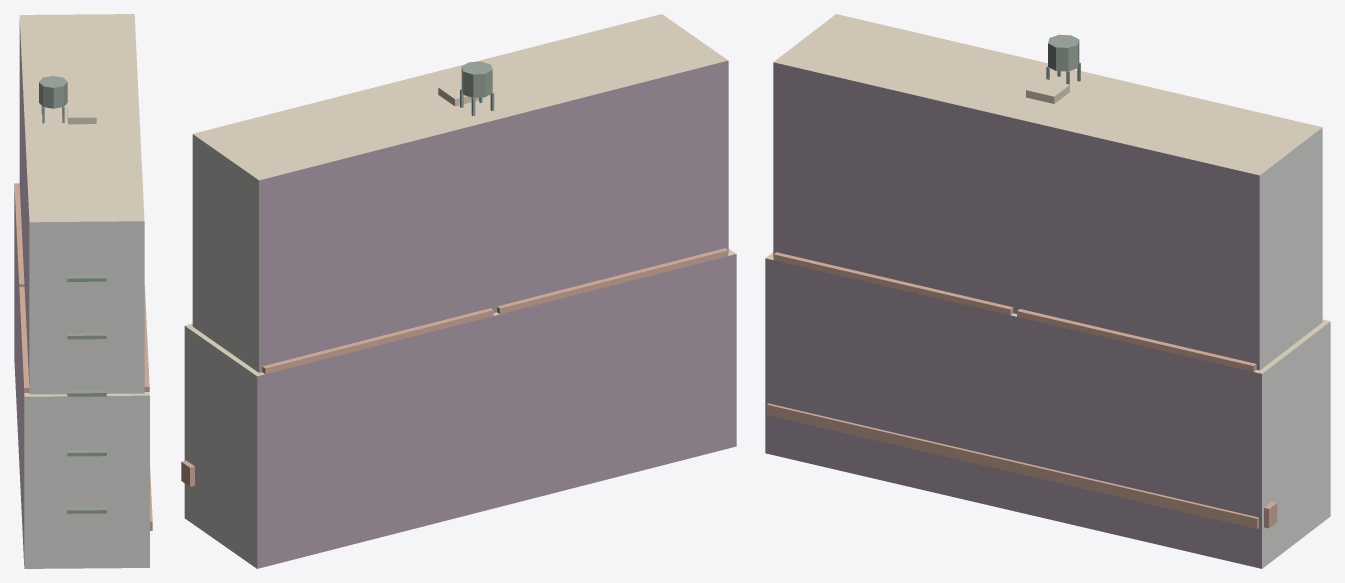
The model's file is doitt-835659__lod_1.glb.
3 views of the same model, side by side, from view 1: azimuth 30°, elevation 25°; view 2: azimuth 150°, elevation 25°; view 3: azimuth 270°, elevation 25° (orthographic). The views are drawn at different scales.
Size of the model in its own units: 21.47 by 25.59 by 30.4.
